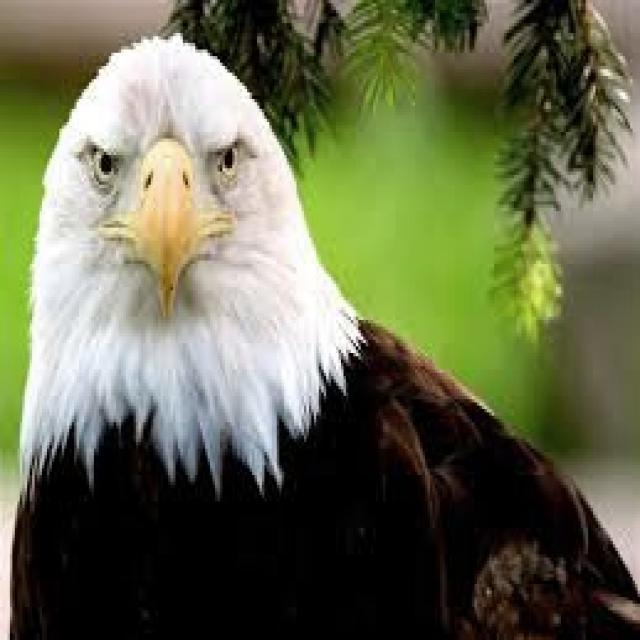eagle: (10, 36, 638, 637)
